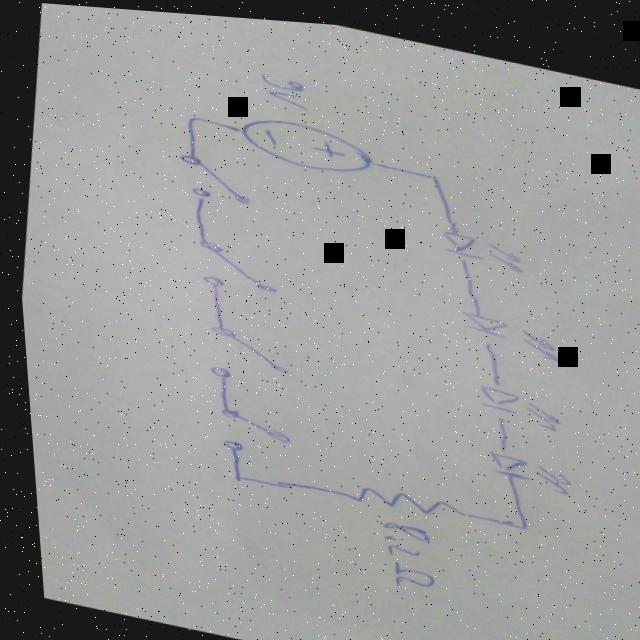diode: (448, 297, 569, 360), (463, 372, 568, 429), (476, 437, 578, 493), (426, 217, 530, 268)
junction: (211, 463, 252, 486), (413, 161, 448, 180), (180, 107, 214, 126), (497, 509, 531, 527)
resistor: (320, 466, 468, 527)
source: (235, 106, 376, 176)
switch: (188, 317, 291, 390), (184, 231, 284, 299), (169, 146, 260, 206), (208, 400, 290, 460)
text: (362, 509, 443, 594), (254, 67, 315, 107)
